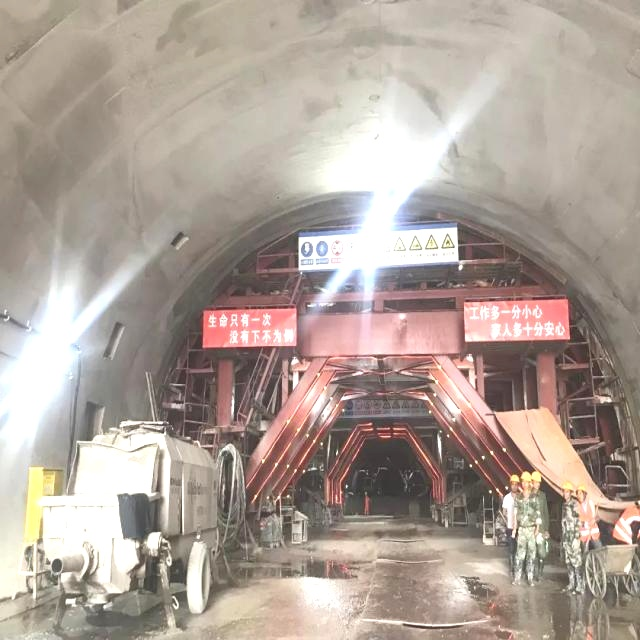Con_Chaleco: (613, 506, 640, 544), (577, 502, 600, 542)
Sin_Chaleco: (516, 491, 540, 529)
